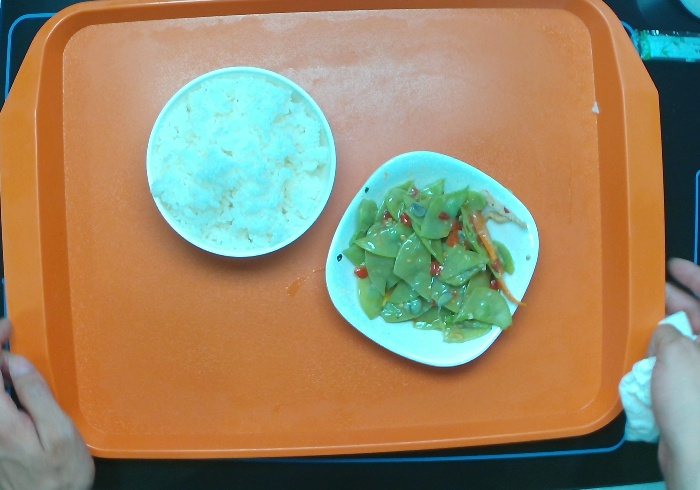ZNLD-Fan_Wan: (145, 64, 338, 258)
ZNLD-Si_Fang_Wan: (323, 148, 541, 369)
